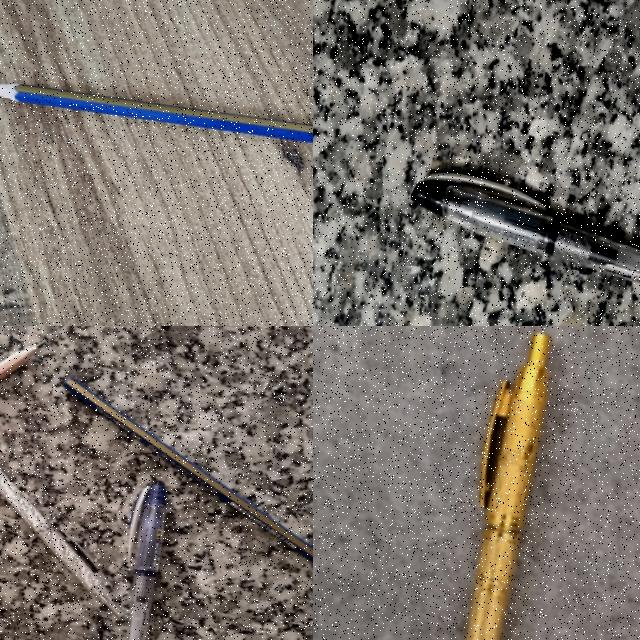pen: (411, 174, 639, 282), (106, 478, 171, 640), (0, 540, 86, 640)
pencil: (63, 379, 313, 563), (0, 84, 312, 143)
signature pen: (466, 333, 549, 640), (0, 469, 124, 616)
